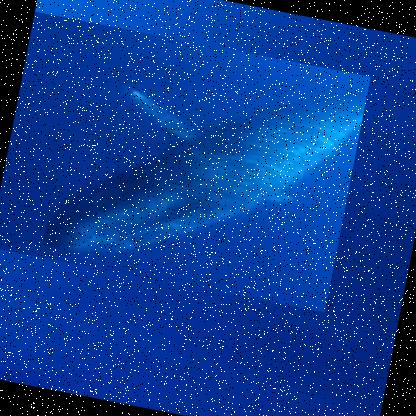blue_whale: (0, 9, 372, 312)
